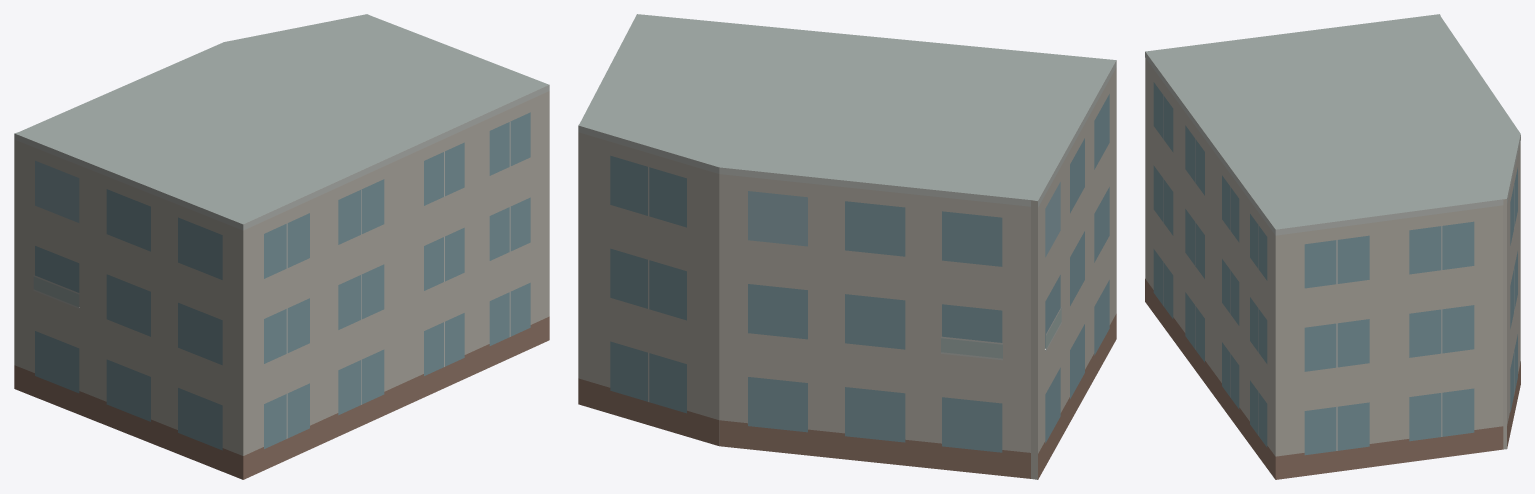
The model's file is survey-upis-32613367.glb.
3 renders of one model, left to right at view 1: azimuth 30°, elevation 25°; view 2: azimuth 150°, elevation 25°; view 3: azimuth 270°, elevation 25°, orthographic. The views are drawn at different scales.
Visible parts, largest first — view 1: survey-upis-32613367.tmp; view 2: survey-upis-32613367.tmp; view 3: survey-upis-32613367.tmp.
Boxes of the visible parts, x1,y1,x2,y2 form: survey-upis-32613367.tmp: (14,14,549,479); survey-upis-32613367.tmp: (578,14,1116,479); survey-upis-32613367.tmp: (1145,14,1520,479).
Size of the model in its own units: 18.87 by 10.2 by 13.89.
